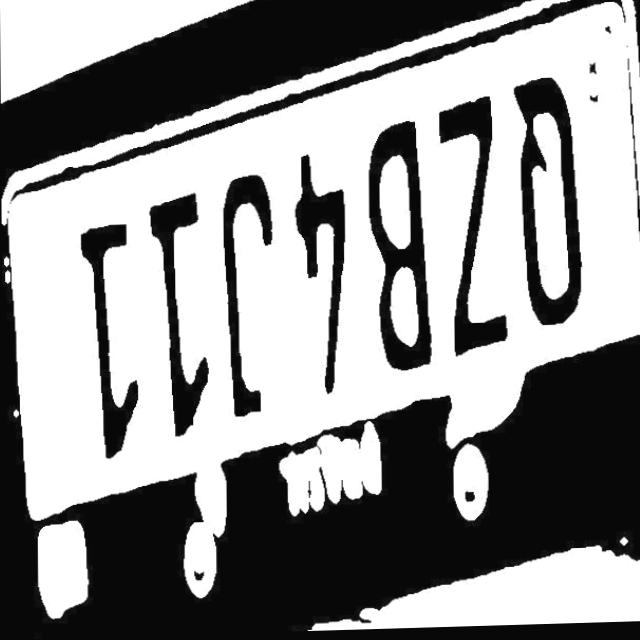1: (78, 206, 149, 481), (147, 181, 215, 458)
4: (290, 127, 348, 398)
b: (367, 95, 431, 370)
j: (219, 147, 279, 433)
q: (507, 39, 579, 316)
z: (432, 64, 509, 349)
